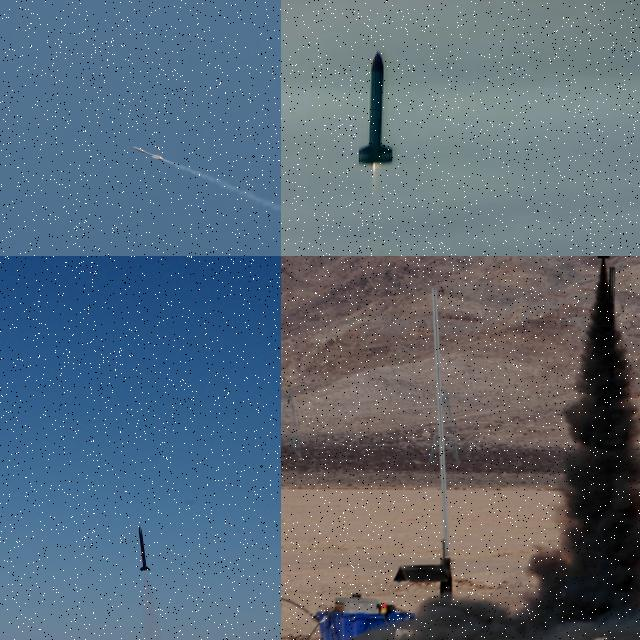Rocket: (356, 50, 394, 164), (138, 524, 151, 572), (132, 146, 165, 161)
